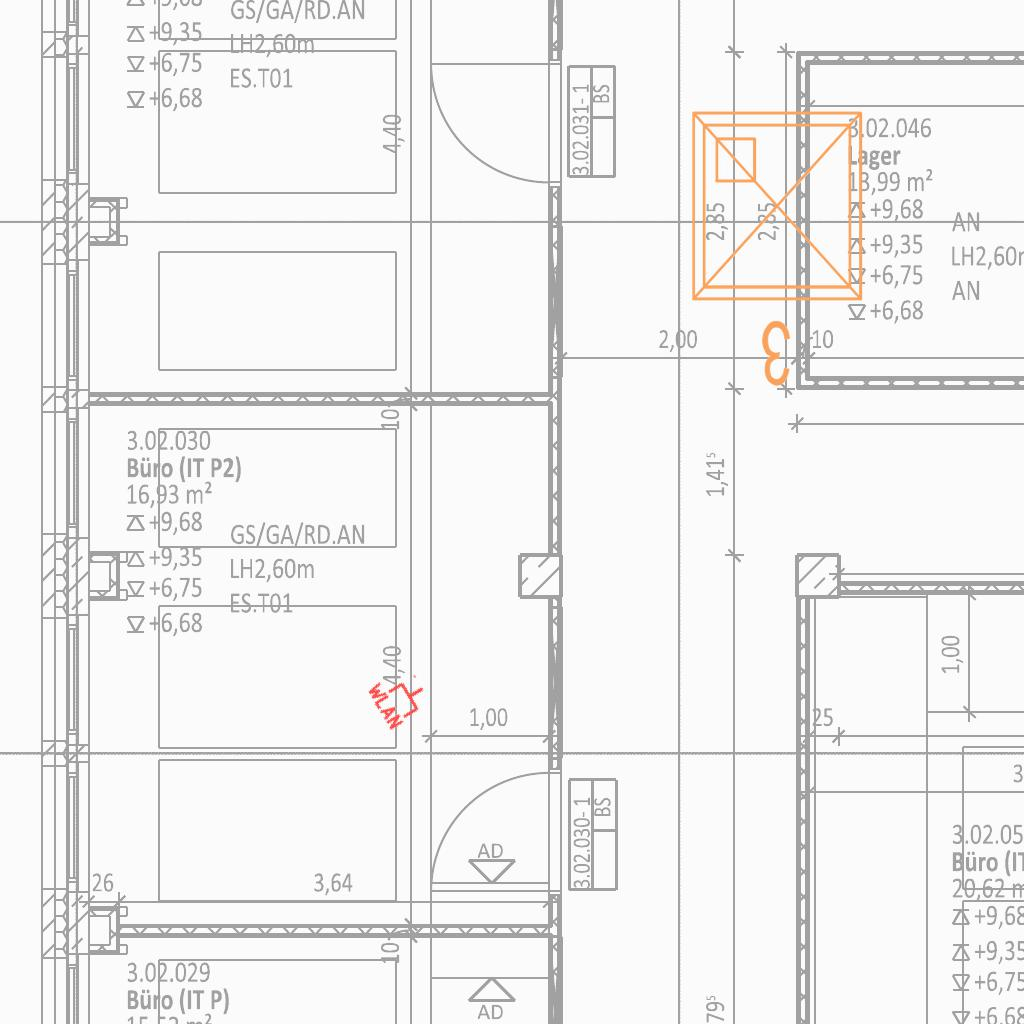Einbaudownlights_LED_Konferenzraeume: (677, 97, 885, 397)
WLAN: (364, 661, 436, 733)
